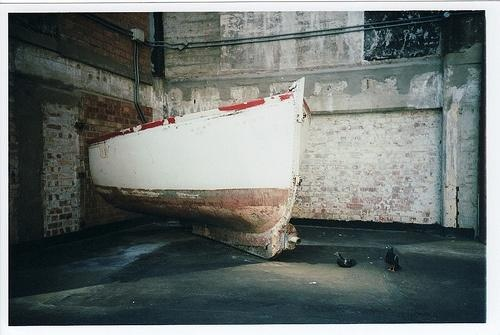boat: (88, 76, 314, 263)
